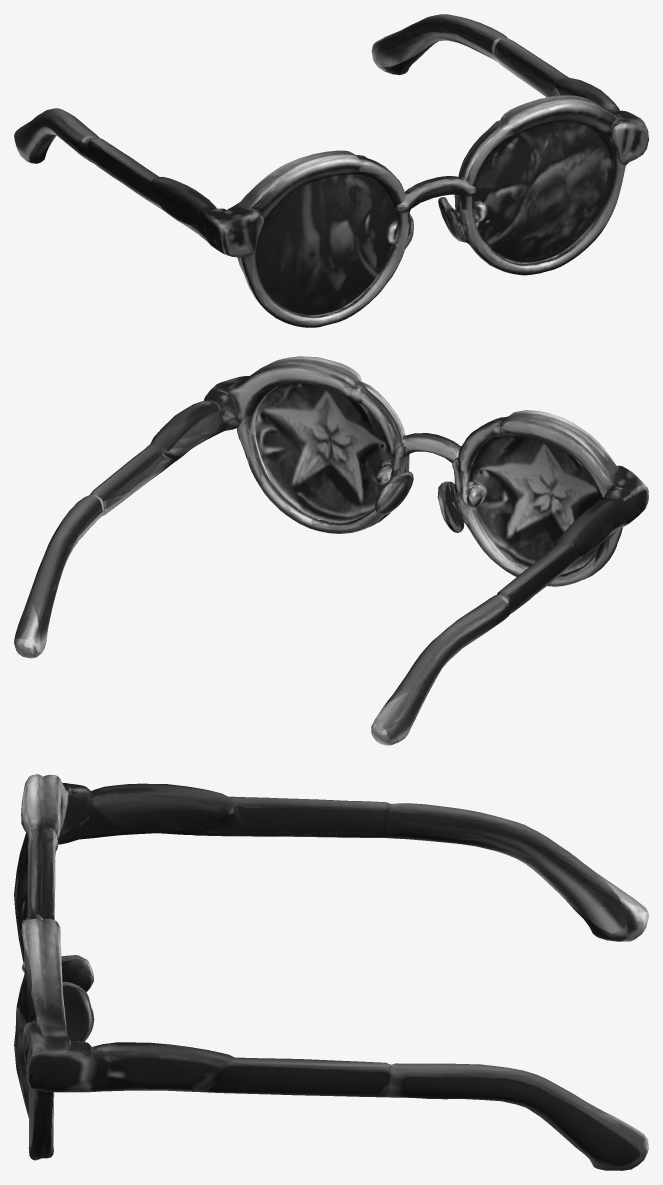
File: glasses-silver.glb
3 renders of one model, top to bottom at view 1: azimuth 30°, elevation 25°; view 2: azimuth 150°, elevation 25°; view 3: azimuth 270°, elevation 25°, orthographic. The views are drawn at different scales.
Parts seen in each view (by area): view 1: geometry_0; view 2: geometry_0; view 3: geometry_0.
Boxes of the visible parts, left/top/right/bottom form: geometry_0: left=14, top=14, right=648, bottom=327; geometry_0: left=14, top=356, right=648, bottom=745; geometry_0: left=14, top=774, right=648, bottom=1170.
Size of the model in its own units: 0.145 by 0.0544 by 0.1423.
Materials: 1 (1 with a texture image).
